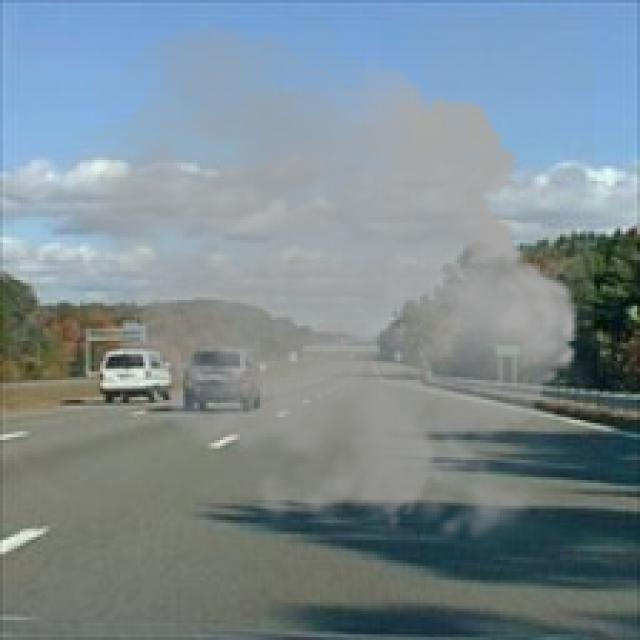smoke: (46, 12, 594, 557)
